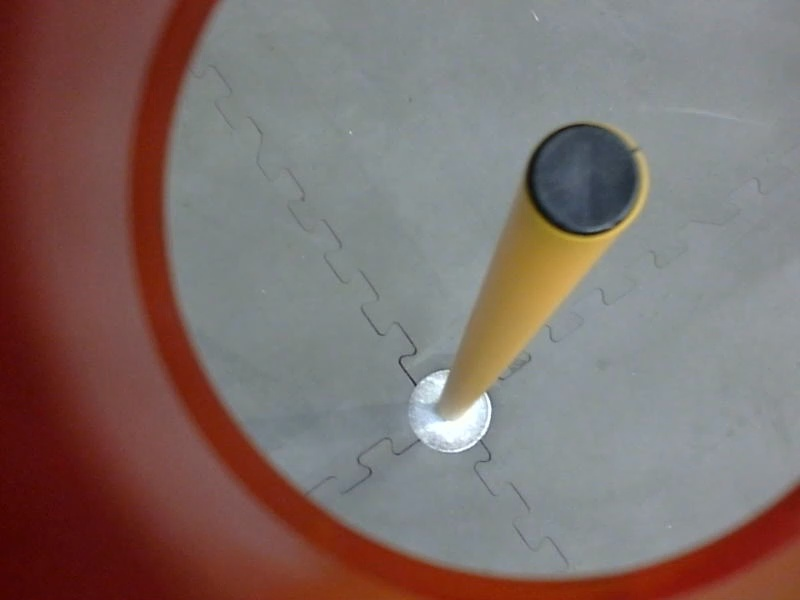tip: (518, 110, 657, 247)
